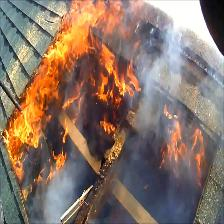fire: (95, 55, 133, 98), (5, 105, 42, 147), (63, 7, 90, 54), (36, 63, 59, 110)
smoke: (146, 41, 192, 106)
